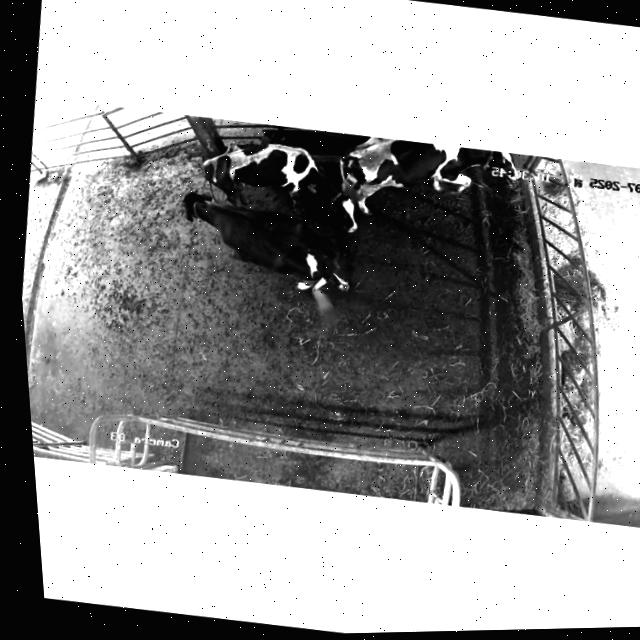stand: (151, 183, 380, 314), (334, 129, 528, 232), (195, 129, 374, 239)
